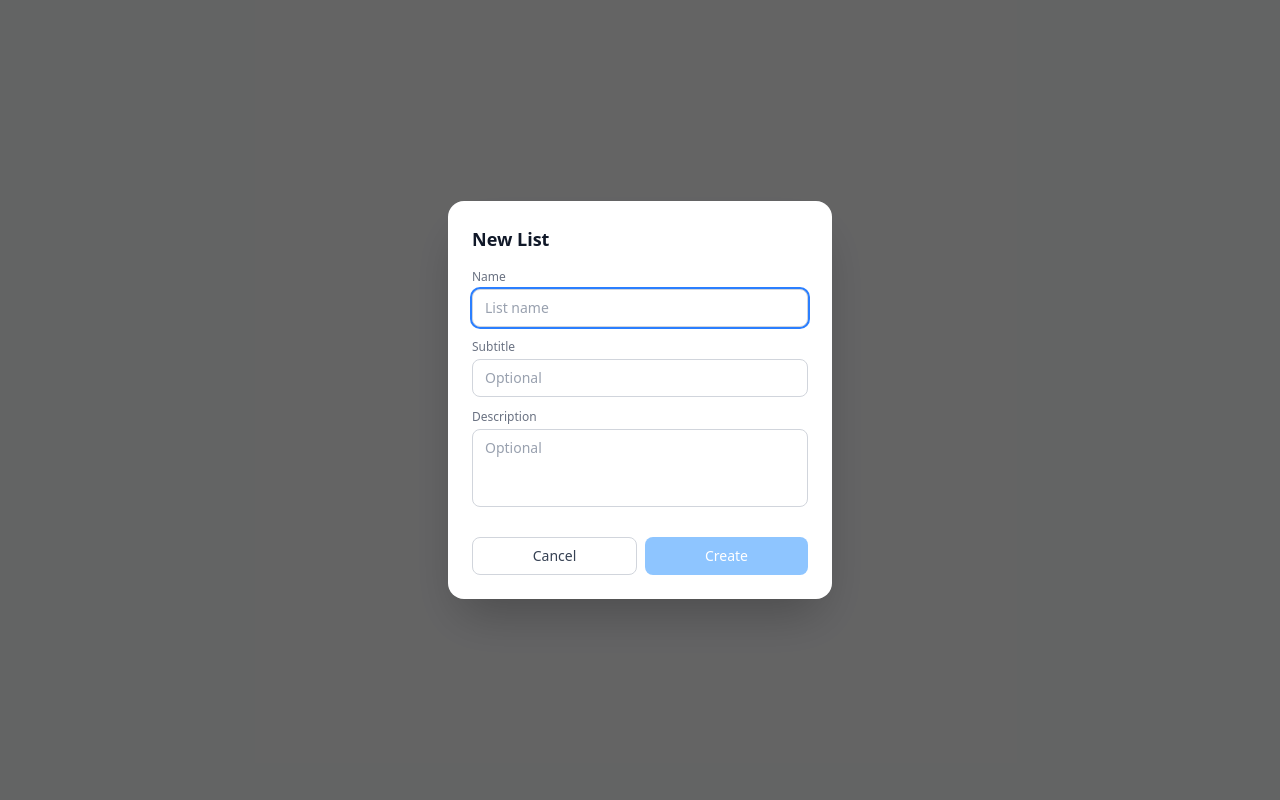
Test case: CreateListDialog › Create button is enabled when input has text
Step 1. Type "Hello" into the field with placeholder "List name" → (640, 308), box top-left (472, 289), bottom-right (808, 327)
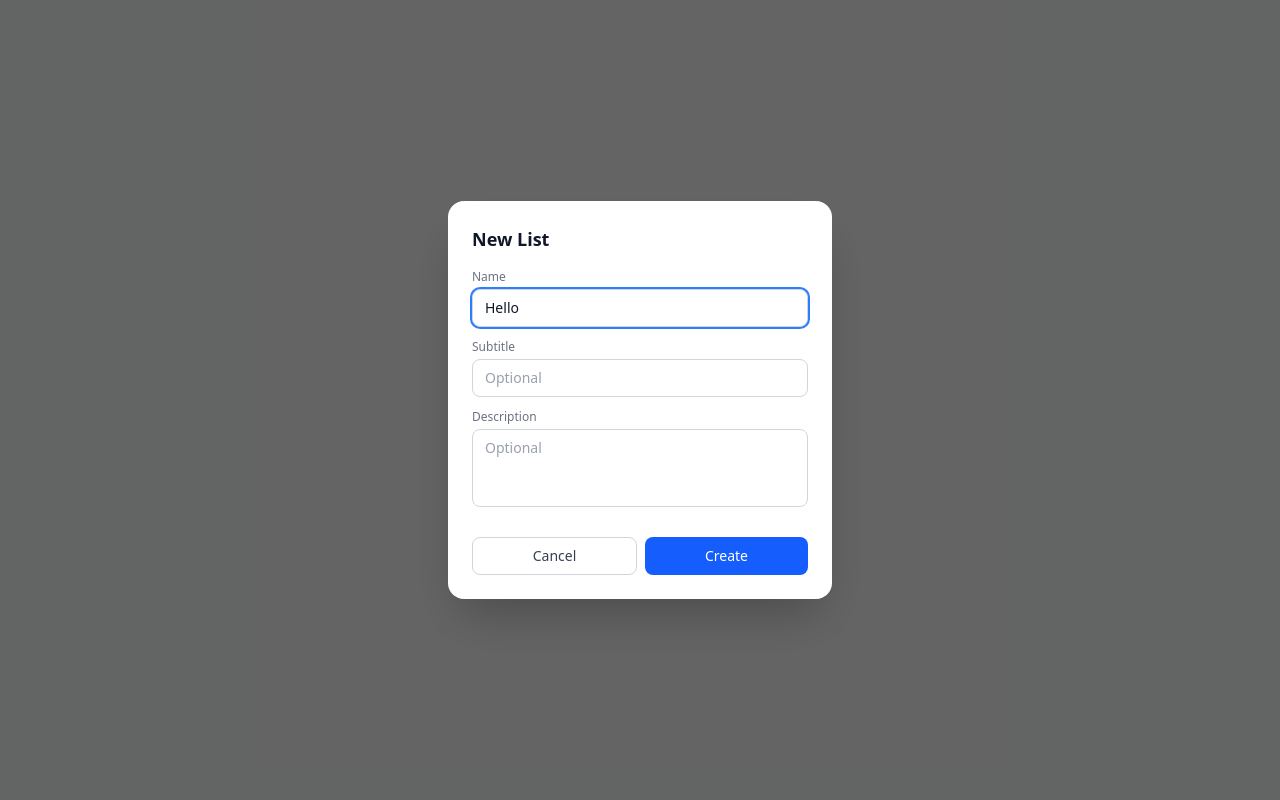
expect the button "Create" is enabled: met, box top-left (645, 537), bottom-right (808, 575)
